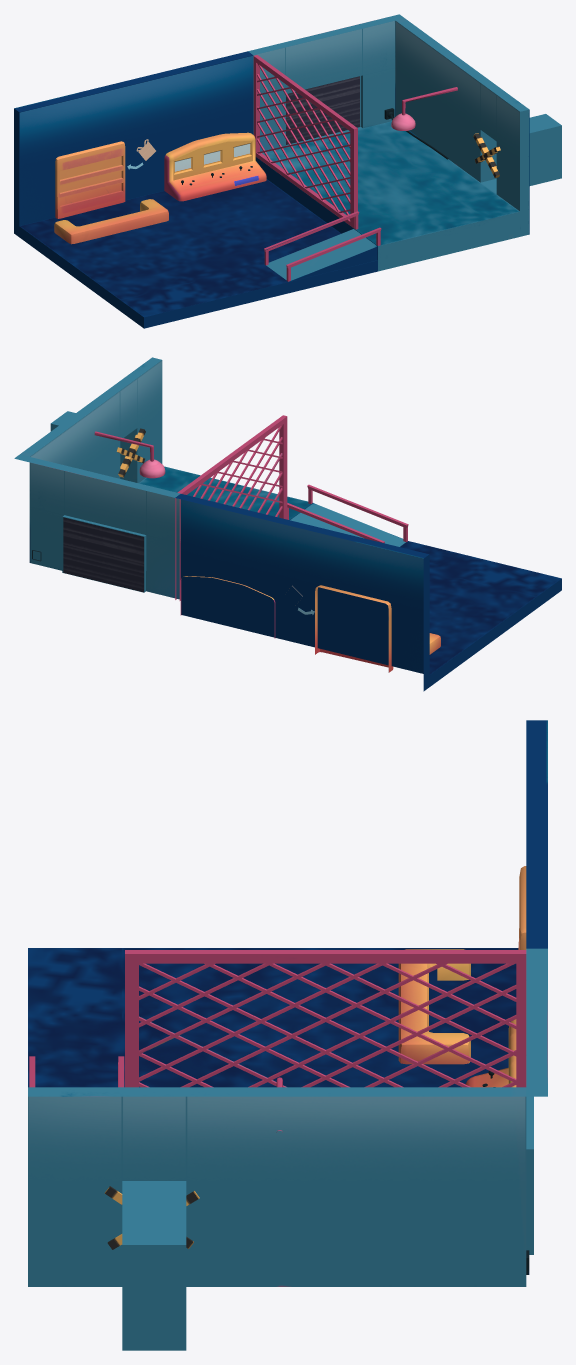
Rendered from InteriorArcade.fbx.
3 renders of one model, top to bottom at view 1: azimuth 30°, elevation 25°; view 2: azimuth 150°, elevation 25°; view 3: azimuth 270°, elevation 25°, orthographic. The views are drawn at different scales.
Visible parts, largest first — view 1: Box002; view 2: Box002; view 3: Box002.
Part boxes in pixels (<box>): Box002: <box>14,14,561,328</box>; Box002: <box>14,357,561,691</box>; Box002: <box>28,720,547,1350</box>.
Size of the model in its own units: 1639 by 444 by 836.
